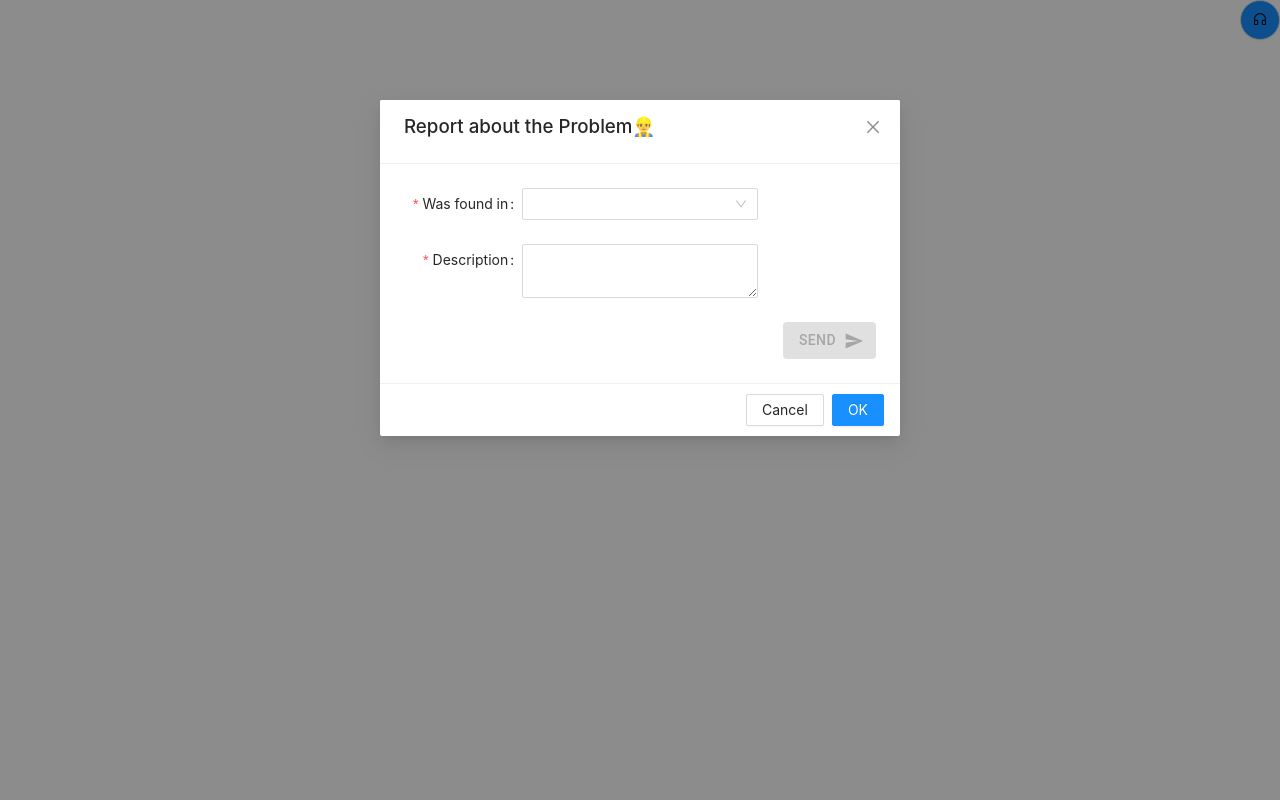
Test: SendReportModal › should show length error when description is too short
The image size is (1280, 800).
Step 1. Type "too short" into the text box with test id "send-report-textarea" → (640, 271), box [522,244,758,298]
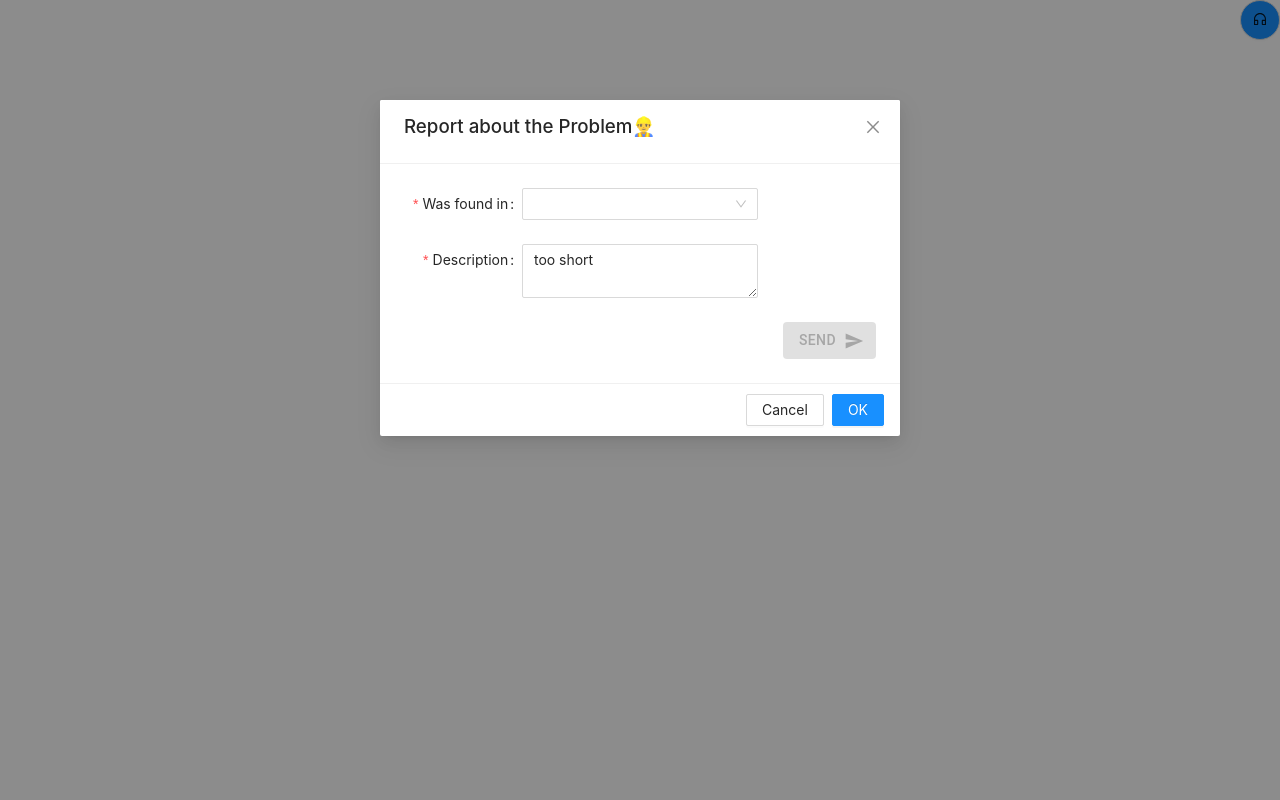
Step 2. Leave the text box with test id "send-report-textarea", box [522,244,758,298]
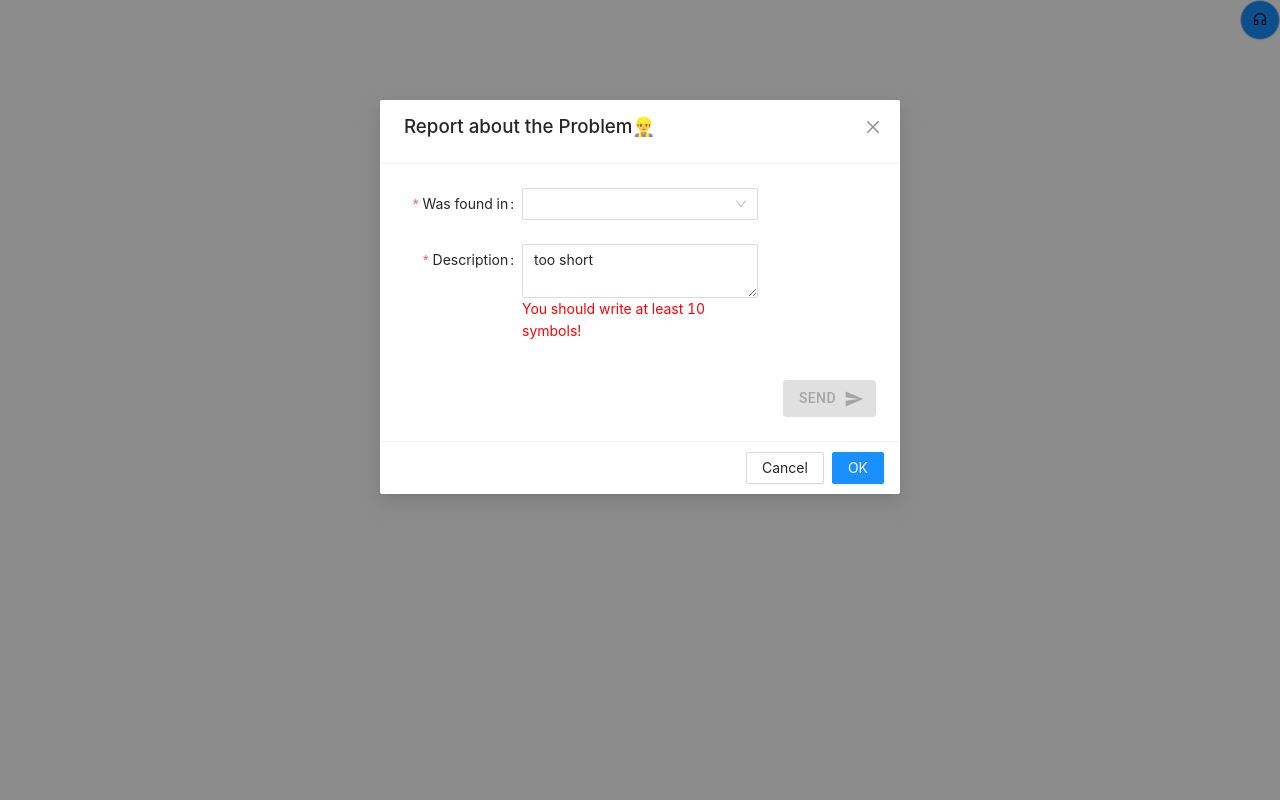
Check: the text "You should write at least 10 symbols!" is shown, box [522,300,705,339]
